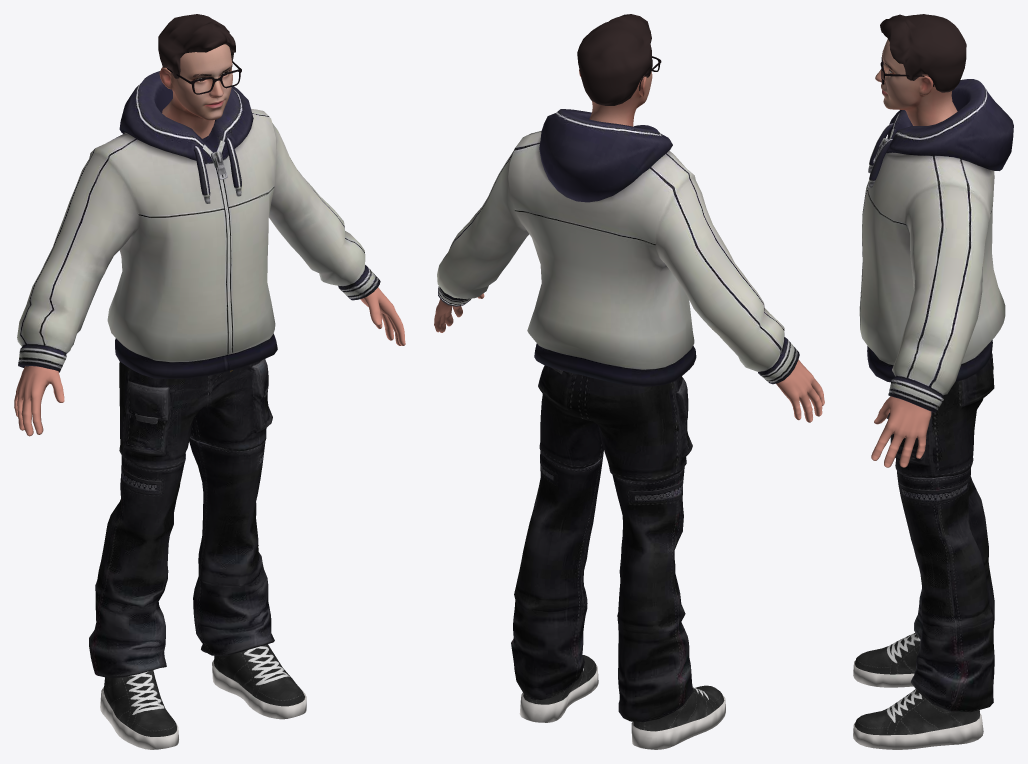
The picture shows the model from 3 angles, left to right: view 1: azimuth 30°, elevation 25°; view 2: azimuth 150°, elevation 25°; view 3: azimuth 270°, elevation 25°; orthographic projection.
Parts seen in each view (by area): view 1: Wolf3D_Outfit_Top, Wolf3D_Outfit_Bottom, Wolf3D_Outfit_Footwear, Wolf3D_Head, Wolf3D_Body, Wolf3D_Hair; view 2: Wolf3D_Outfit_Top, Wolf3D_Outfit_Bottom, Wolf3D_Hair, Wolf3D_Outfit_Footwear, Wolf3D_Body, Wolf3D_Head; view 3: Wolf3D_Outfit_Top, Wolf3D_Outfit_Bottom, Wolf3D_Outfit_Footwear, Wolf3D_Hair, Wolf3D_Head, Wolf3D_Body.
Boxes of the visible parts, box(x1,y1,x2,y2) form: Wolf3D_Outfit_Top: box(17, 71, 380, 378); Wolf3D_Outfit_Bottom: box(89, 359, 274, 678); Wolf3D_Outfit_Footwear: box(100, 644, 306, 749); Wolf3D_Head: box(159, 44, 232, 138); Wolf3D_Body: box(14, 287, 405, 436); Wolf3D_Hair: box(158, 14, 235, 78); Wolf3D_Outfit_Top: box(437, 109, 799, 386); Wolf3D_Outfit_Bottom: box(511, 365, 693, 722); Wolf3D_Hair: box(577, 14, 652, 105); Wolf3D_Outfit_Footwear: box(519, 655, 725, 749); Wolf3D_Body: box(434, 293, 824, 422); Wolf3D_Head: box(579, 69, 652, 126); Wolf3D_Outfit_Top: box(859, 79, 1013, 412); Wolf3D_Outfit_Bottom: box(887, 353, 994, 712); Wolf3D_Outfit_Footwear: box(853, 632, 983, 749); Wolf3D_Hair: box(880, 14, 966, 92); Wolf3D_Head: box(875, 39, 957, 125); Wolf3D_Body: box(871, 396, 931, 467).
Size of the model in its own units: 1.06 by 1.85 by 0.391.
10 materials, 10 textured.
